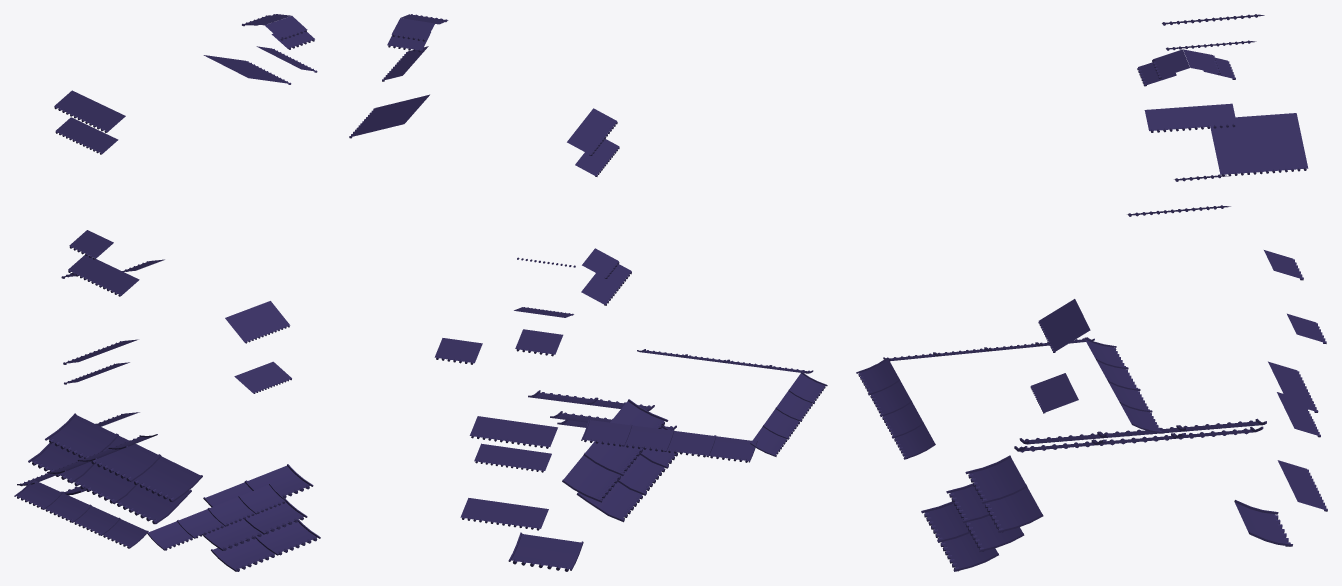
The model's file is toit chinois en pente 02.fbx.
3 views of the same model, side by side, from view 1: azimuth 30°, elevation 25°; view 2: azimuth 150°, elevation 25°; view 3: azimuth 270°, elevation 25° (orthographic). The views are drawn at different scales.
Visible parts, largest first — view 1: Plane.445, Plane.444, Plane.394, Plane.386, Plane.400, Plane.401, Plane.411, Plane.421, Plane.414, Plane.486, Plane.473, Plane.415 (+4 smaller); view 2: Plane.372, Plane.445, Plane.444, Plane.386, Plane.480, Plane.743, Plane.736, Plane.737, Plane.495, Plane.473, Plane.414, Plane.486 (+6 smaller); view 3: Plane.495, Plane.394, Plane.411, Plane.400, Plane.372, Plane.401, Plane.464, Plane.473, Plane.421, Plane.480, Plane.445, Plane.444 (+7 smaller).
Boxes of the visible parts, bbox=[...] form: Plane.445: bbox=[45, 413, 202, 502]; Plane.444: bbox=[28, 442, 191, 524]; Plane.394: bbox=[147, 483, 287, 550]; Plane.386: bbox=[14, 479, 148, 548]; Plane.400: bbox=[211, 519, 320, 571]; Plane.401: bbox=[202, 498, 307, 550]; Plane.411: bbox=[203, 464, 313, 507]; Plane.421: bbox=[225, 301, 290, 343]; Plane.414: bbox=[54, 90, 125, 132]; Plane.486: bbox=[68, 255, 139, 296]; Plane.473: bbox=[242, 14, 314, 49]; Plane.415: bbox=[55, 117, 118, 154]; Plane.372: bbox=[581, 419, 757, 462]; Plane.445: bbox=[562, 399, 668, 502]; Plane.444: bbox=[576, 425, 679, 522]; Plane.386: bbox=[750, 372, 827, 456]; Plane.480: bbox=[508, 532, 583, 571]; Plane.743: bbox=[460, 498, 548, 530]; Plane.736: bbox=[469, 416, 557, 448]; Plane.737: bbox=[474, 443, 551, 472]; Plane.495: bbox=[349, 94, 429, 138]; Plane.473: bbox=[387, 14, 448, 52]; Plane.414: bbox=[567, 108, 617, 155]; Plane.486: bbox=[581, 264, 631, 305]; Plane.495: bbox=[1210, 113, 1308, 176]; Plane.394: bbox=[856, 357, 935, 459]; Plane.411: bbox=[965, 455, 1043, 532]; Plane.400: bbox=[921, 501, 998, 571]; Plane.372: bbox=[1084, 337, 1163, 433]; Plane.401: bbox=[946, 483, 1024, 551]; Plane.464: bbox=[1144, 103, 1236, 132]; Plane.473: bbox=[1137, 49, 1235, 86]; Plane.421: bbox=[1038, 299, 1090, 352]; Plane.480: bbox=[1234, 500, 1292, 546]; Plane.445: bbox=[1019, 418, 1266, 444]; Plane.444: bbox=[1014, 426, 1263, 452].
Bounding box in the file's own units: 6566 × 8666 × 6505.
